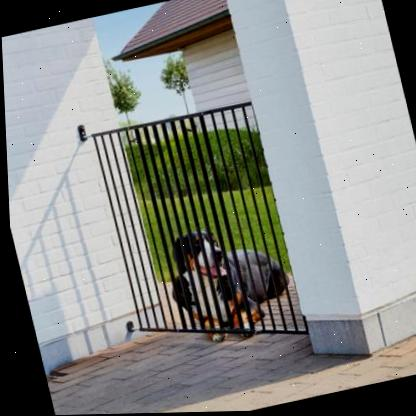dog: (152, 207, 301, 360)
